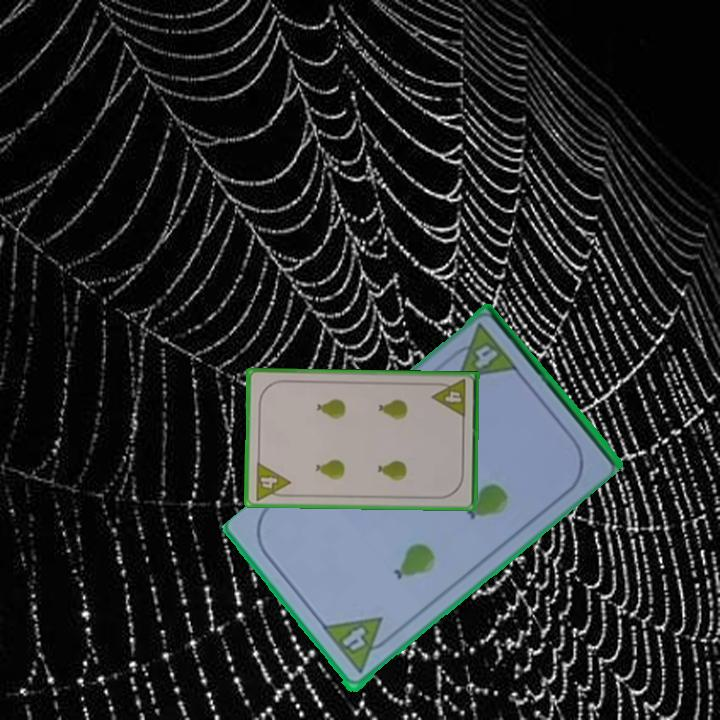4p: (319, 613, 398, 677), (441, 320, 520, 383), (251, 459, 293, 503), (429, 376, 469, 421)
